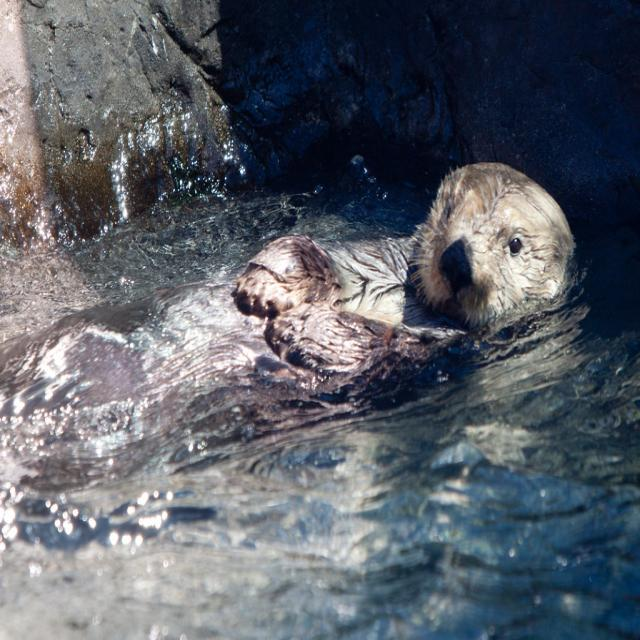otter: (239, 159, 577, 370)
